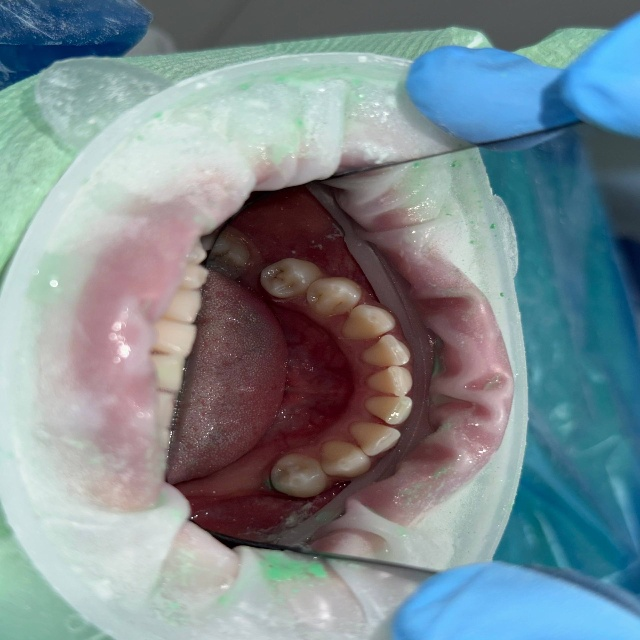clean_tooth: (433, 248, 484, 391), (399, 540, 468, 589), (240, 428, 301, 470), (229, 335, 258, 423), (522, 460, 559, 511), (467, 393, 486, 447)
plaque: (0, 10, 215, 476), (0, 518, 248, 639), (486, 0, 639, 84), (56, 226, 86, 312)
